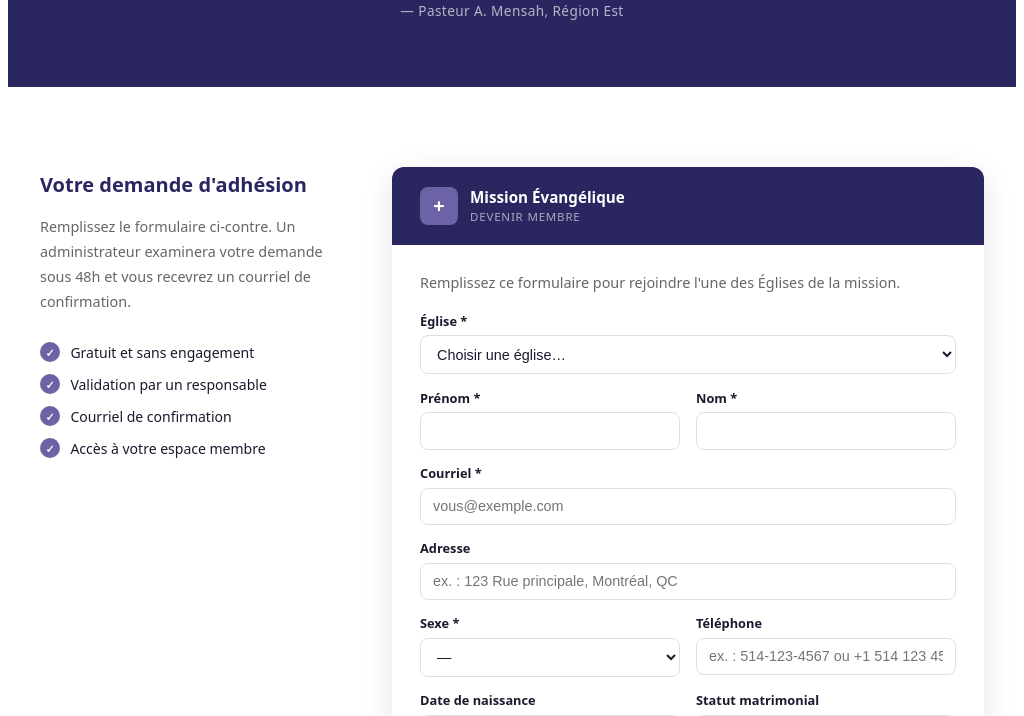
Test: MembershipPage — champs requis › refuse un courriel mal formé
(page scrolled)
Select "Église centrale — Centre" in the 1st dropdown at [688, 355], box [420,335,956,374]
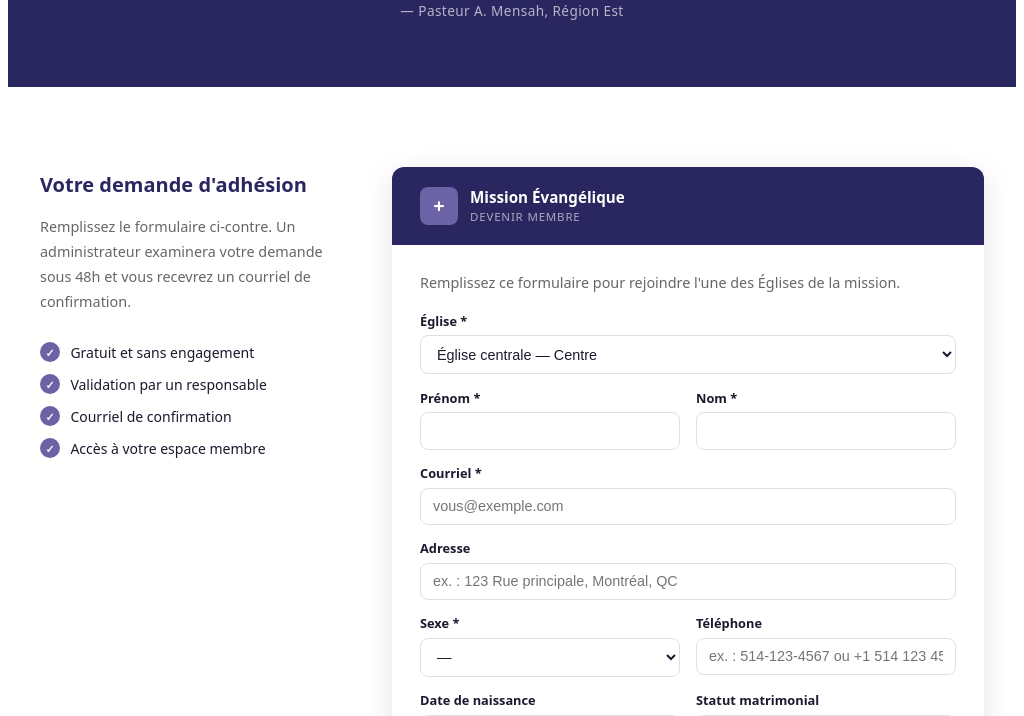
Type "Marie" into the field below "Prénom *" at [550, 431], box [420,412,680,450]
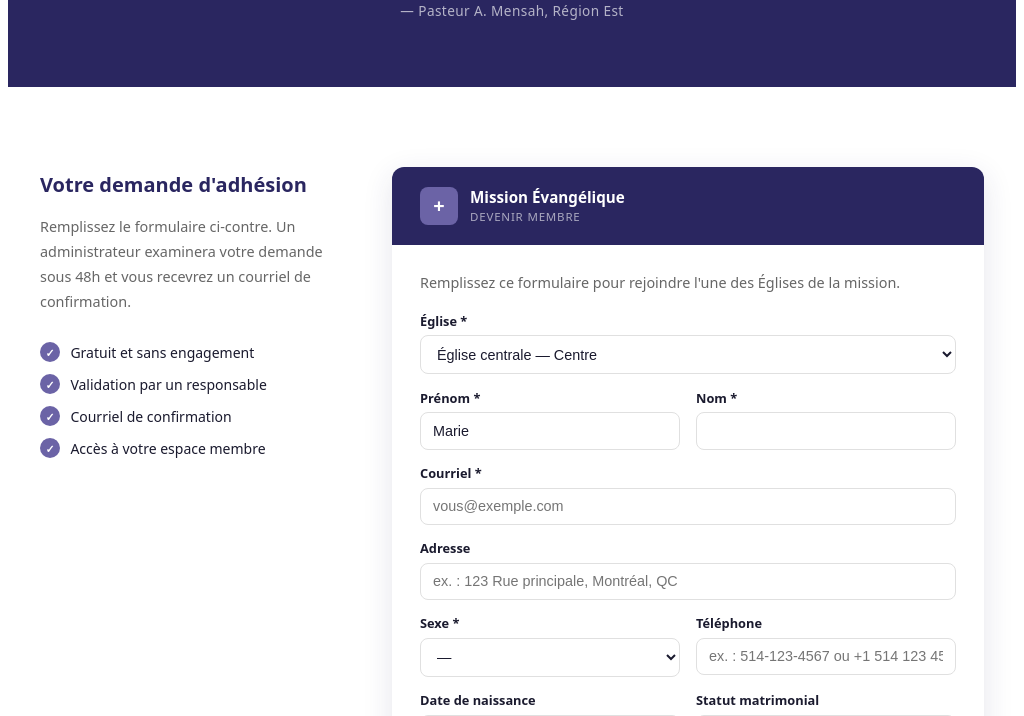
Type "Dupont" into the 2nd field at [826, 431], box [696,412,956,450]
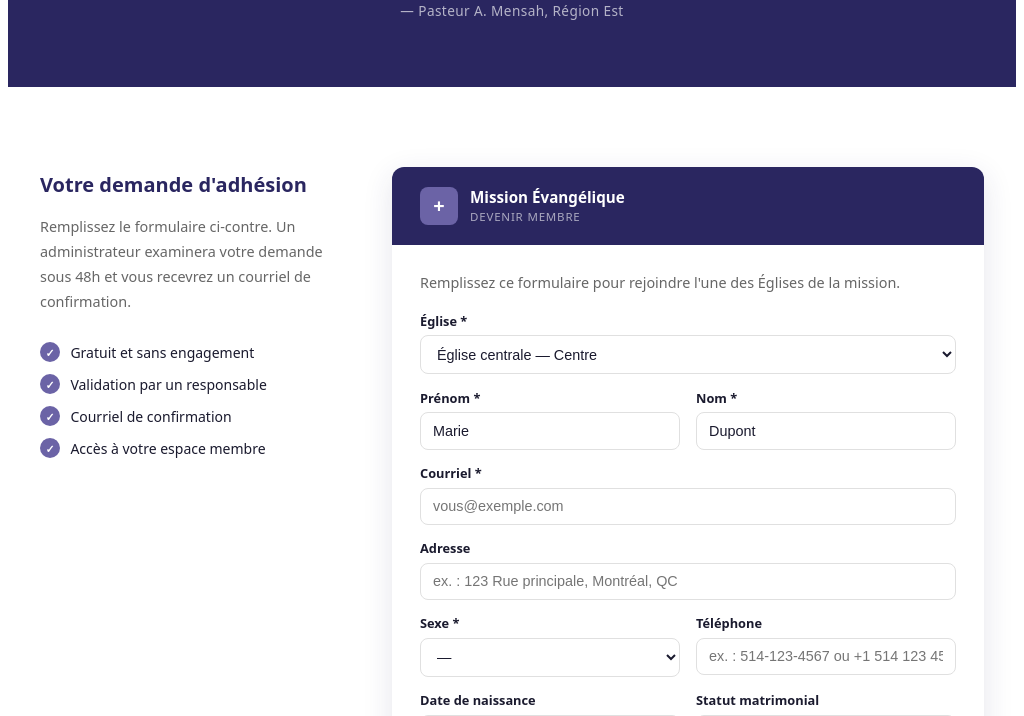
Type "marie@exemple.com" into the field with placeholder "vous@exemple.com" at [688, 506], box [420,488,956,525]
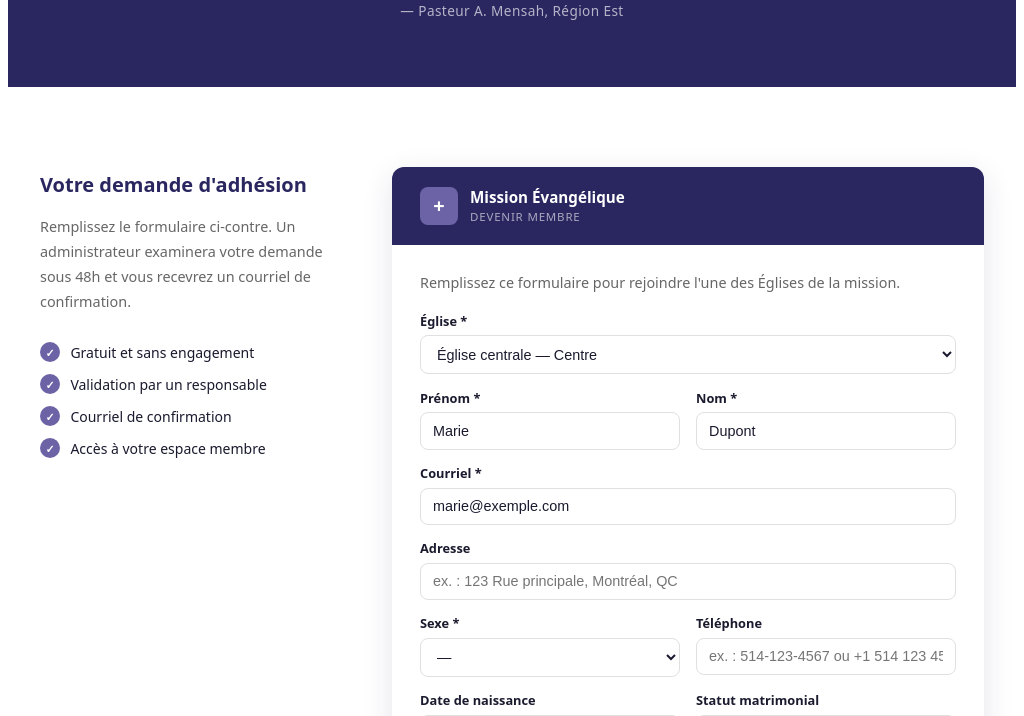
Replace the text in the 3rd field with placeholder "vous@exemple.com" with "pas-un-courriel" at [688, 506], box [420,488,956,525]
(page scrolled)
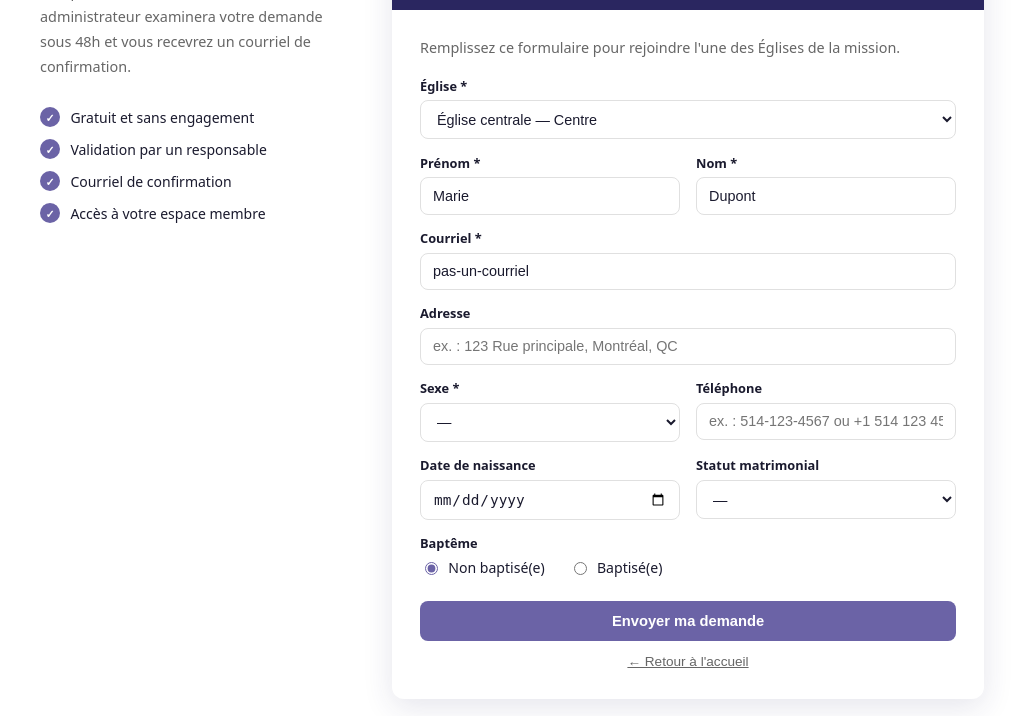
Submit the form, box [392,10,984,699]
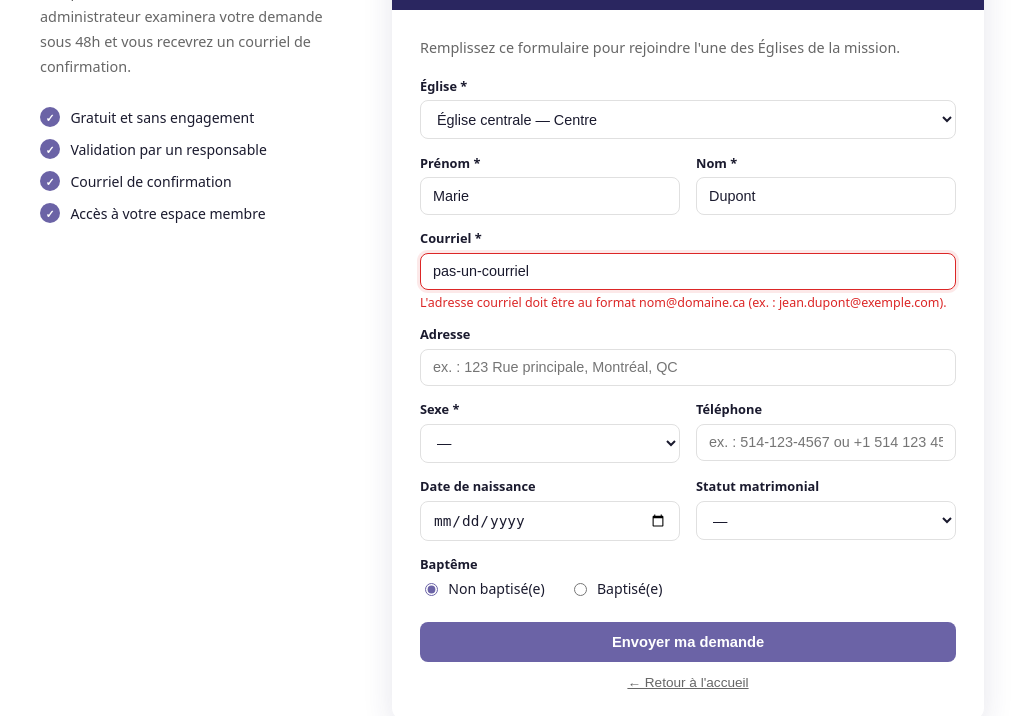
Expected: the message is shown, [420,294,956,311]
